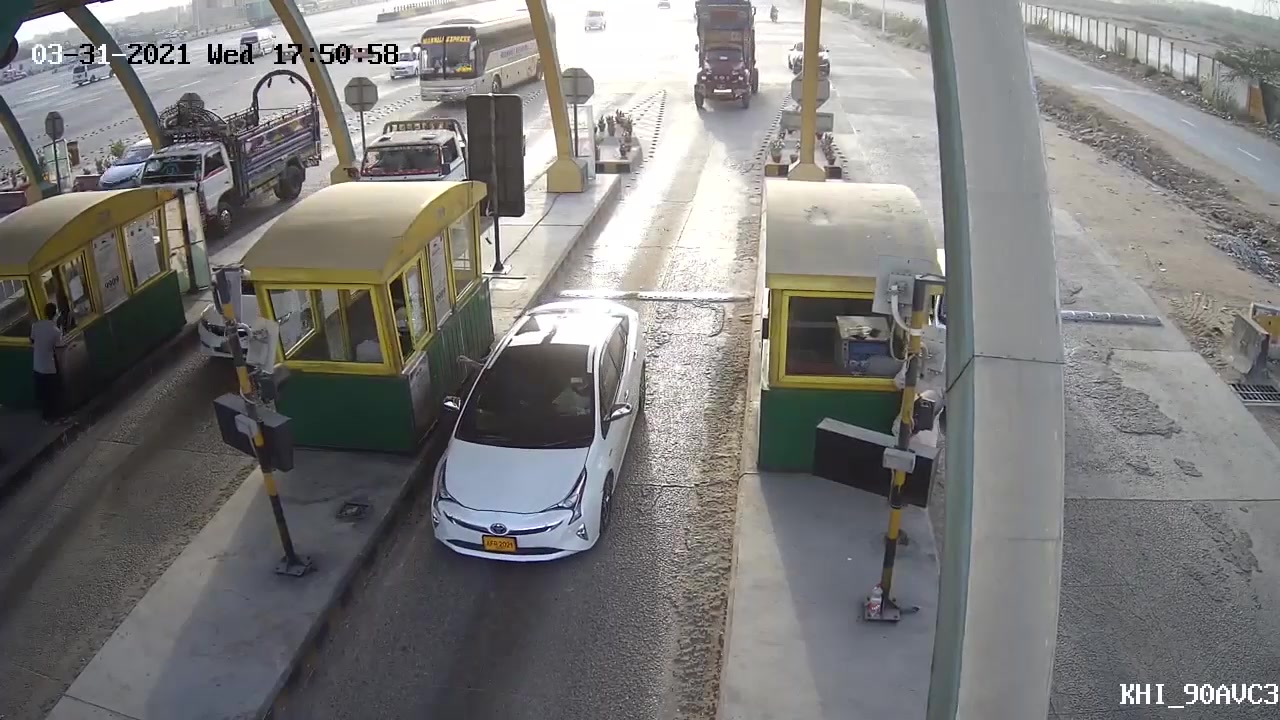F1: (414, 296, 672, 569)
